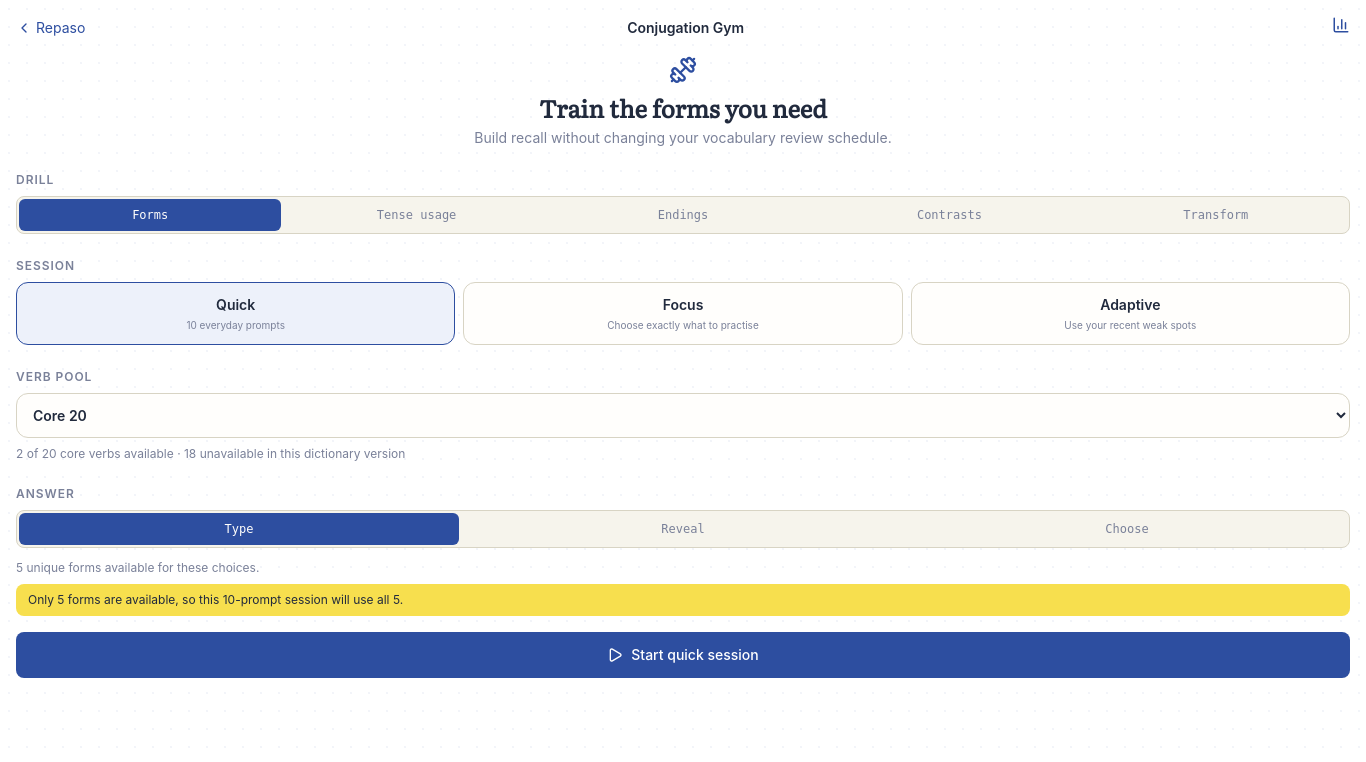
Test: Conjugation Gym setup › exposes Focus packs, exact persisted person strings, and rare custom labels
Click the button "Focus Choose exactly what to practise". click: click(683, 313)
box: [463, 282, 903, 344]
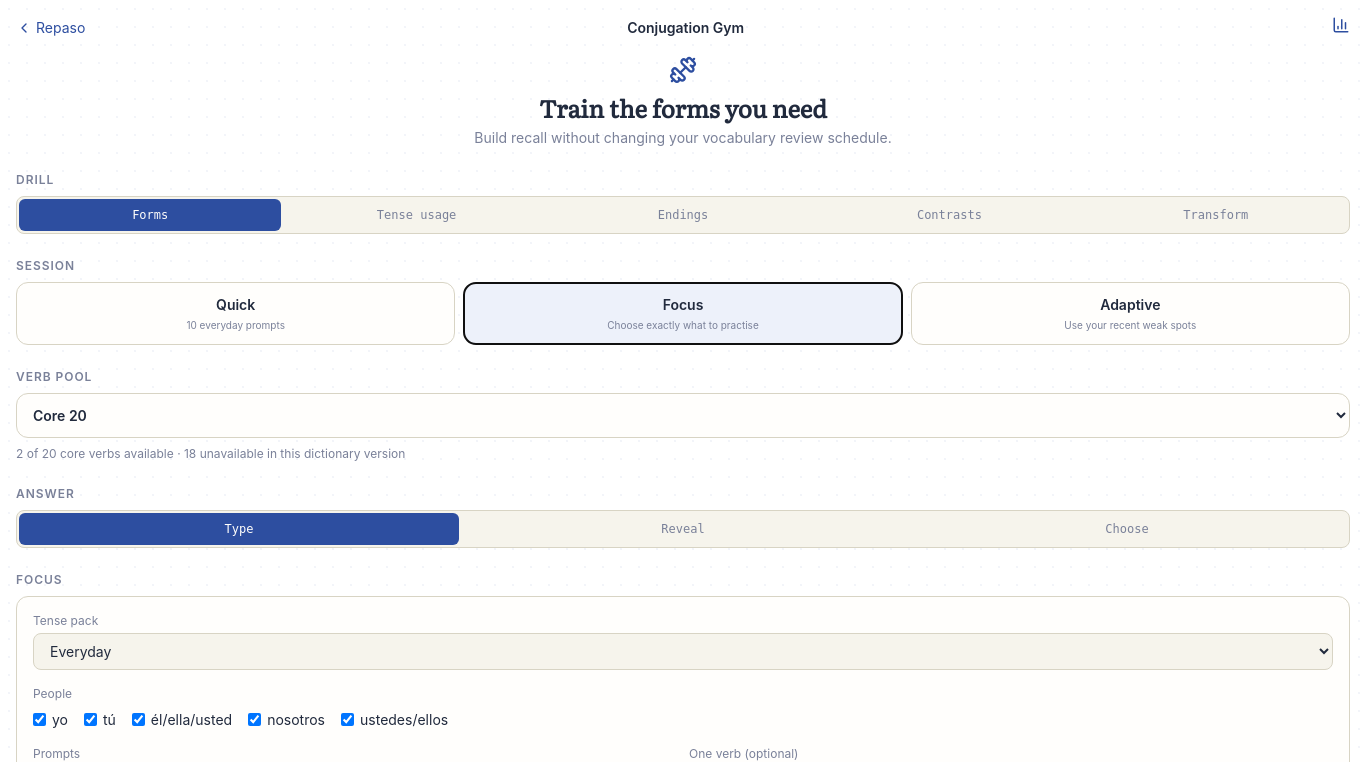
Result: the text "él/ella/usted" is shown at [132, 710, 232, 730]
Result: the text "ustedes/ellos" is shown at [341, 710, 448, 730]
Select "Customize" in the dropdown labelled "Tense pack". click: (683, 651)
box: [33, 632, 1333, 670]
(page scrolled)
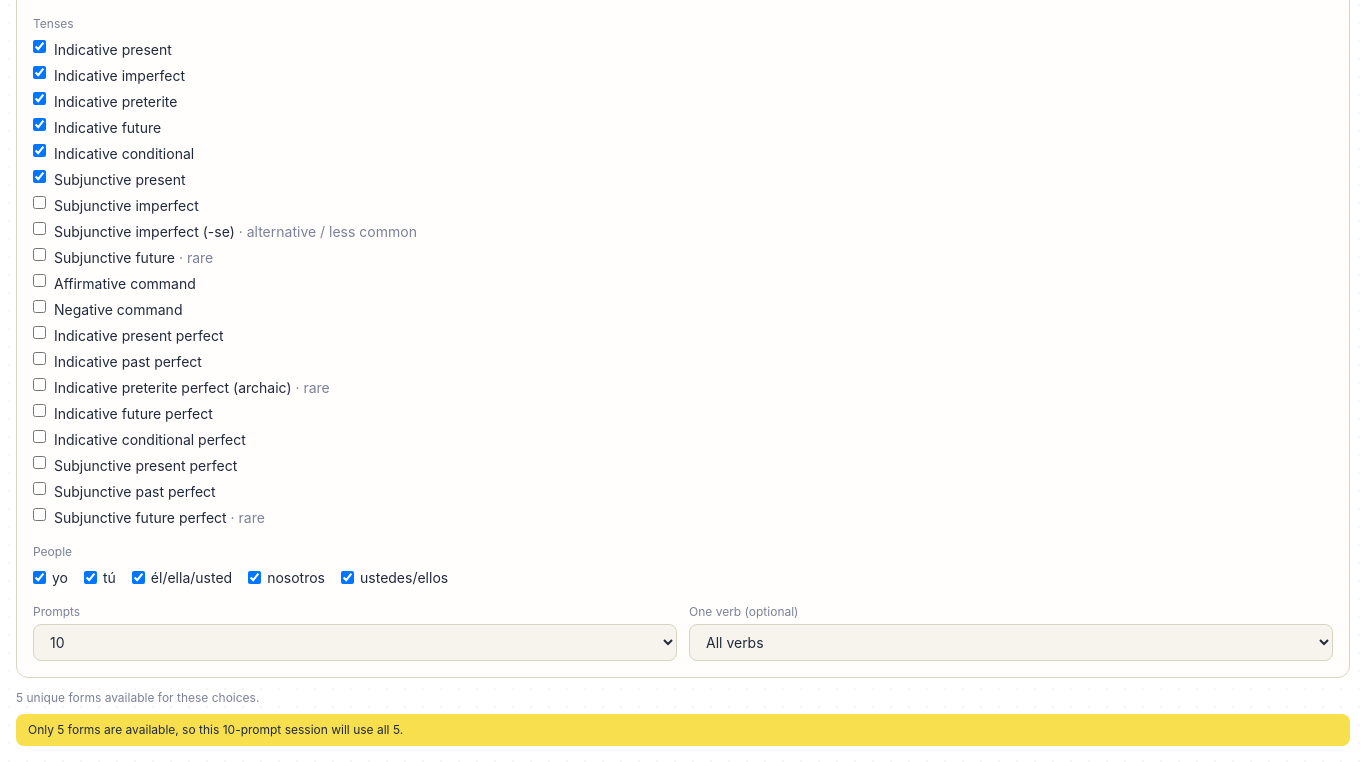
Result: the checkbox labelled "Subjunctive imperfect (-se) · alternative / less common" is shown at [33, 222, 46, 234]
Result: the checkbox labelled "Subjunctive future · rare" is shown at [33, 248, 46, 260]
Result: the checkbox labelled "Indicative preterite perfect (archaic) · rare" is shown at [33, 378, 46, 390]
